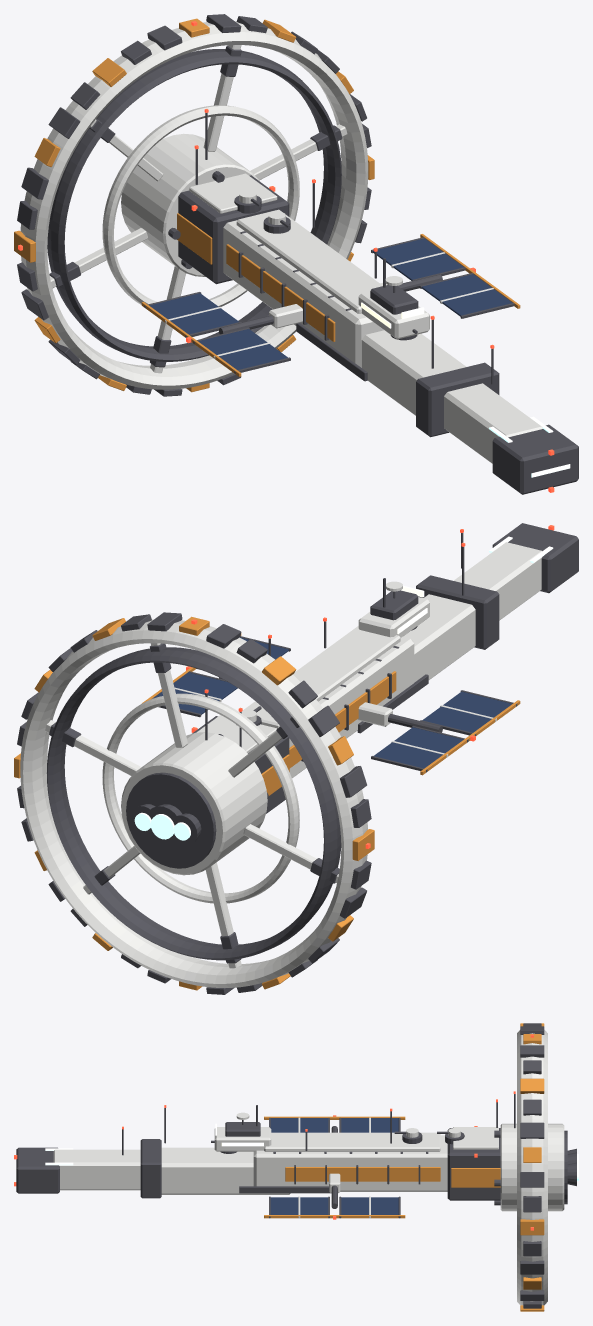
The model's file is hss.glb.
3 renders of one model, top to bottom at view 1: azimuth 30°, elevation 25°; view 2: azimuth 150°, elevation 25°; view 3: azimuth 270°, elevation 25°, orthographic. The views are drawn at different scales.
Parts seen in each view (by area): view 1: HSS_Station; view 2: HSS_Station; view 3: HSS_Station.
Part boxes in pixels (box(x1,y1,x2,y2)): HSS_Station: box(14, 14, 578, 494); HSS_Station: box(14, 523, 578, 994); HSS_Station: box(14, 1023, 578, 1311).
Size of the model in its own units: 41.45 by 41.45 by 80.02.
